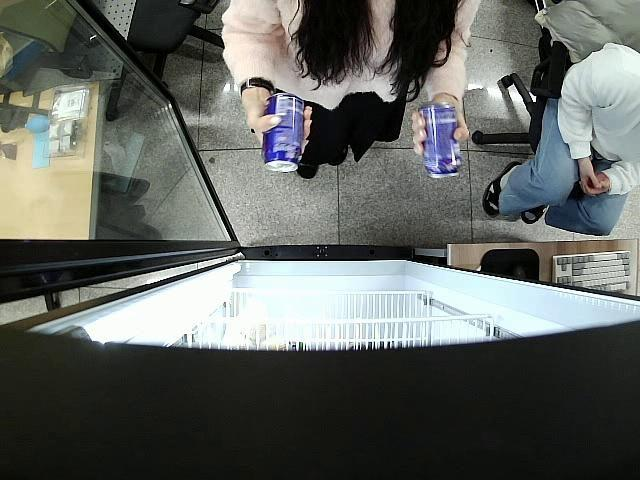14_welchsGrape: (418, 102, 463, 182), (264, 92, 305, 170)
